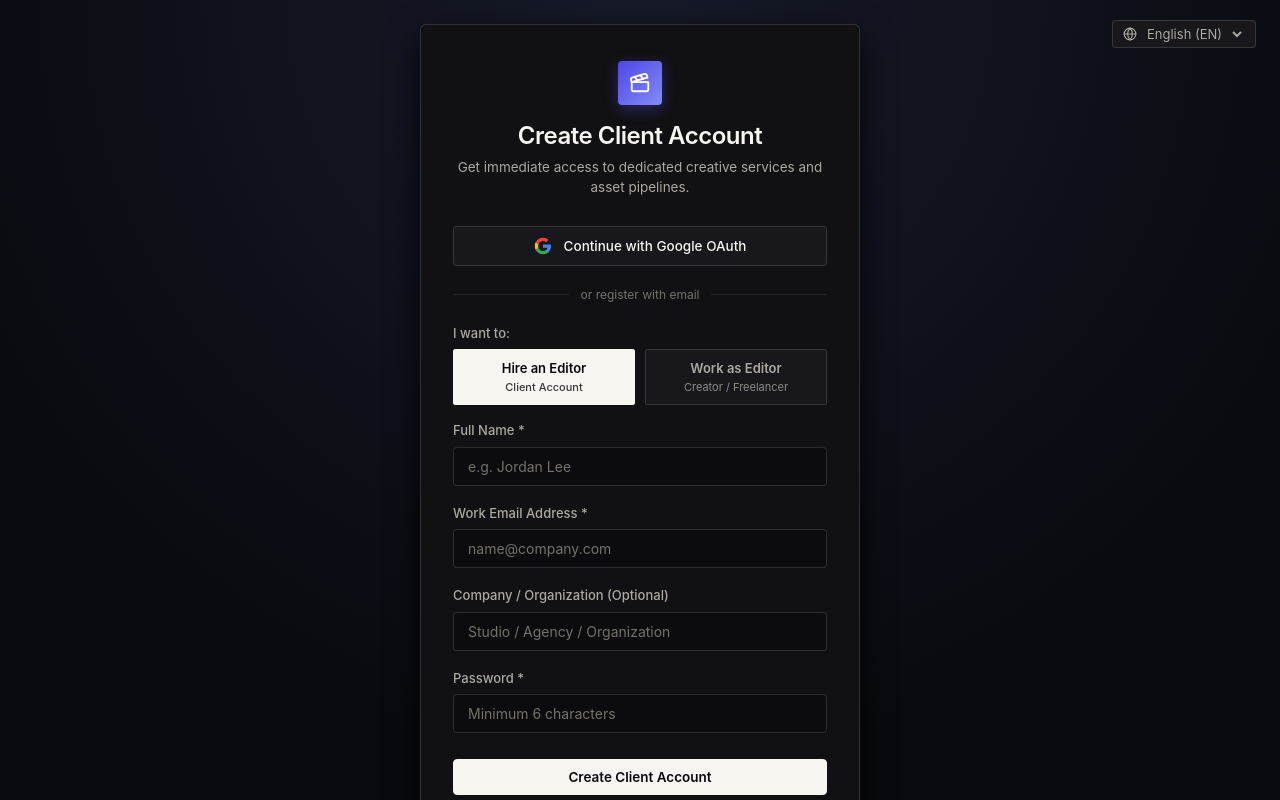
Test case: Authentication Flow & Security Validation › validates password length on signup
Step 1. Type "Alex Morgan" into the field labelled "Full Name *" → (640, 466), box [453,446,827,486]
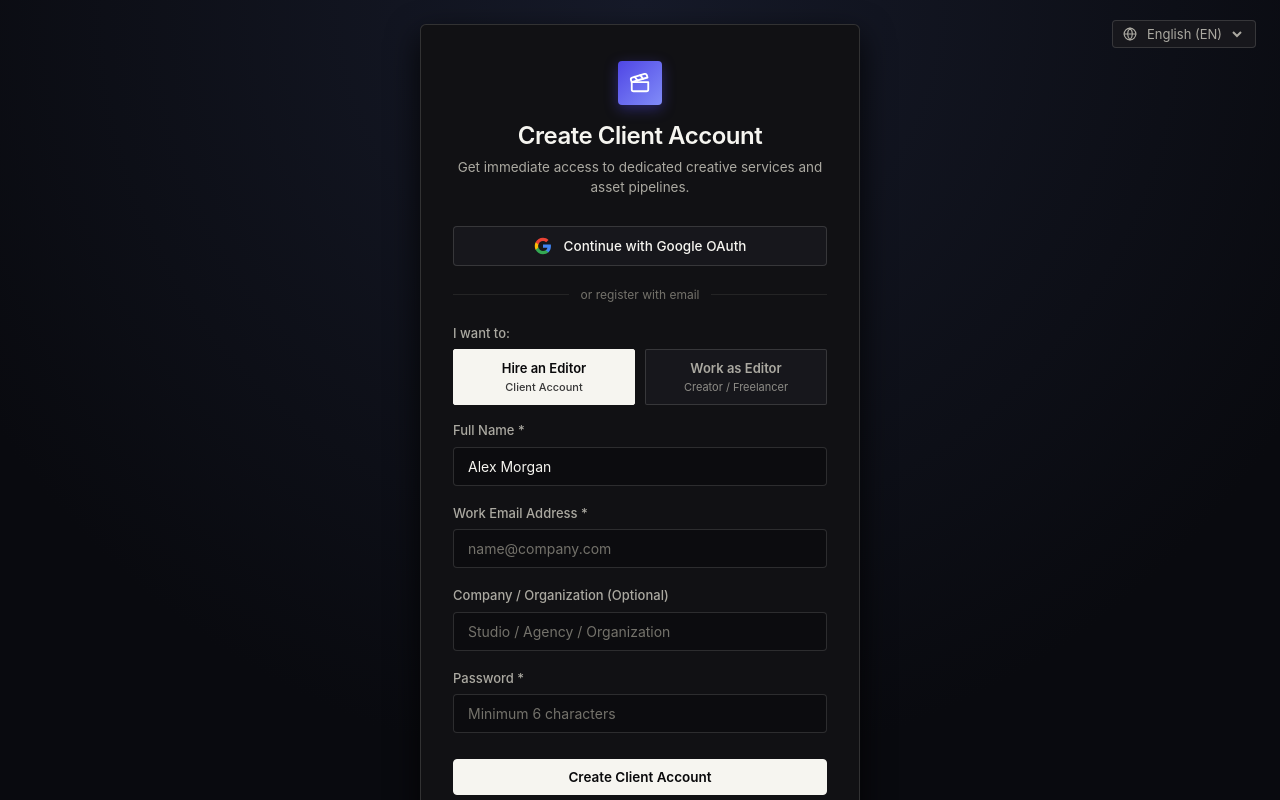
Step 2. Type "alex@example.com" into the field labelled "Work Email Address *" → (640, 548), box [453,529,827,568]
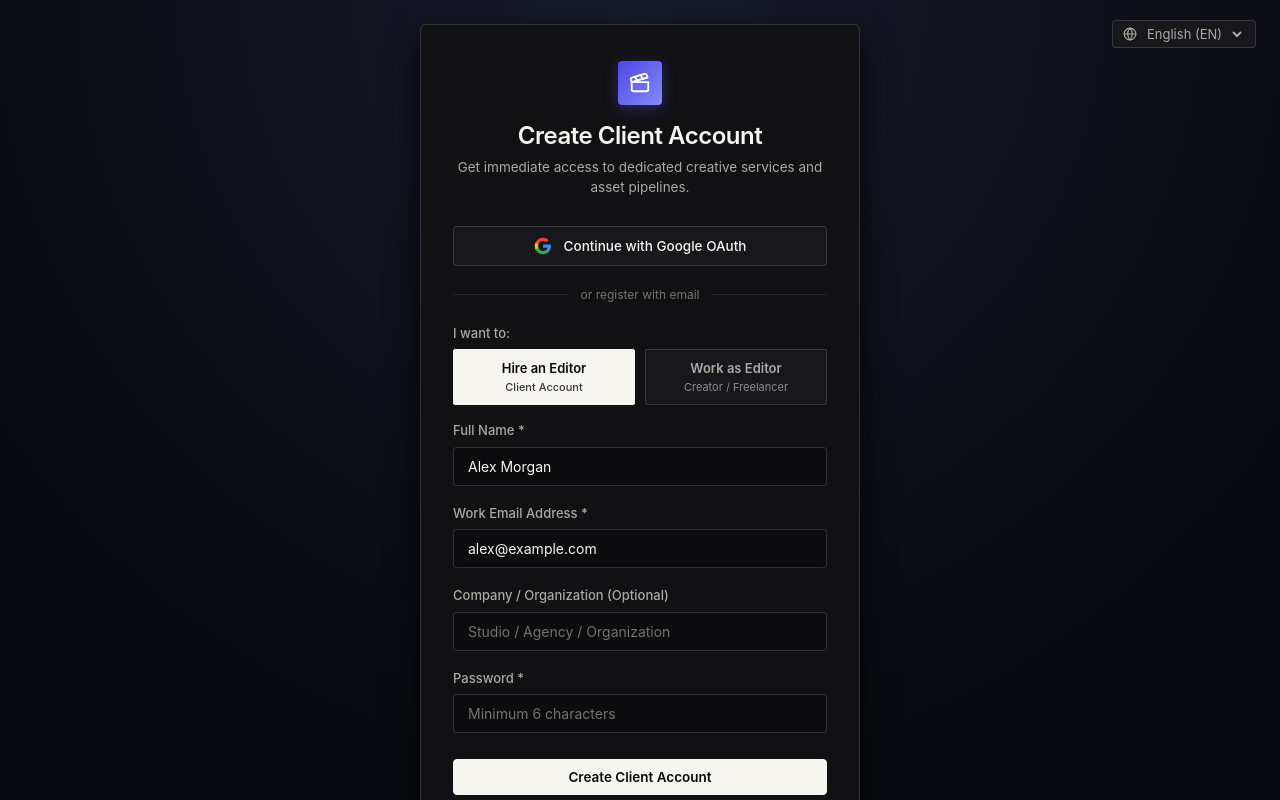
Step 3. Type "123" into the password field labelled "Password *" → (640, 714), box [453,694,827,733]
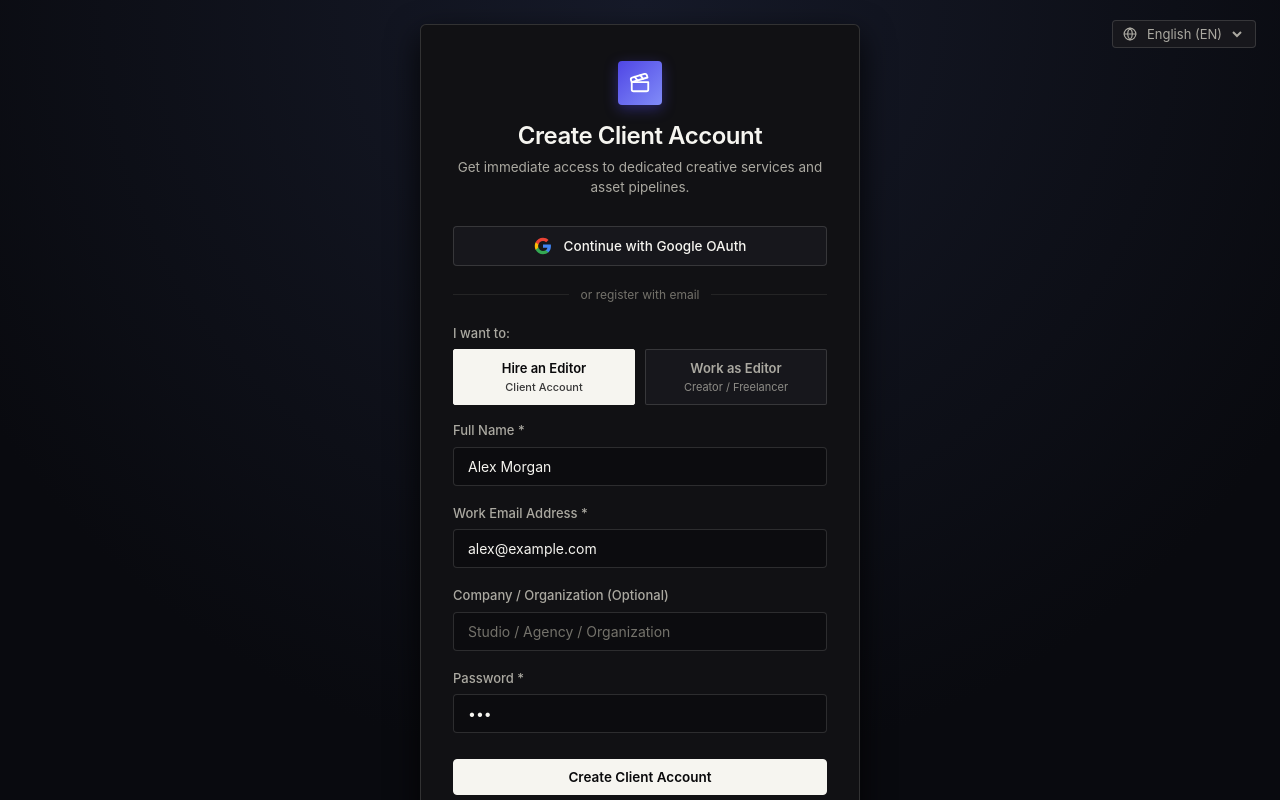
Step 4. Click the button "Create Client Account" → (640, 777), box [453,759,827,795]
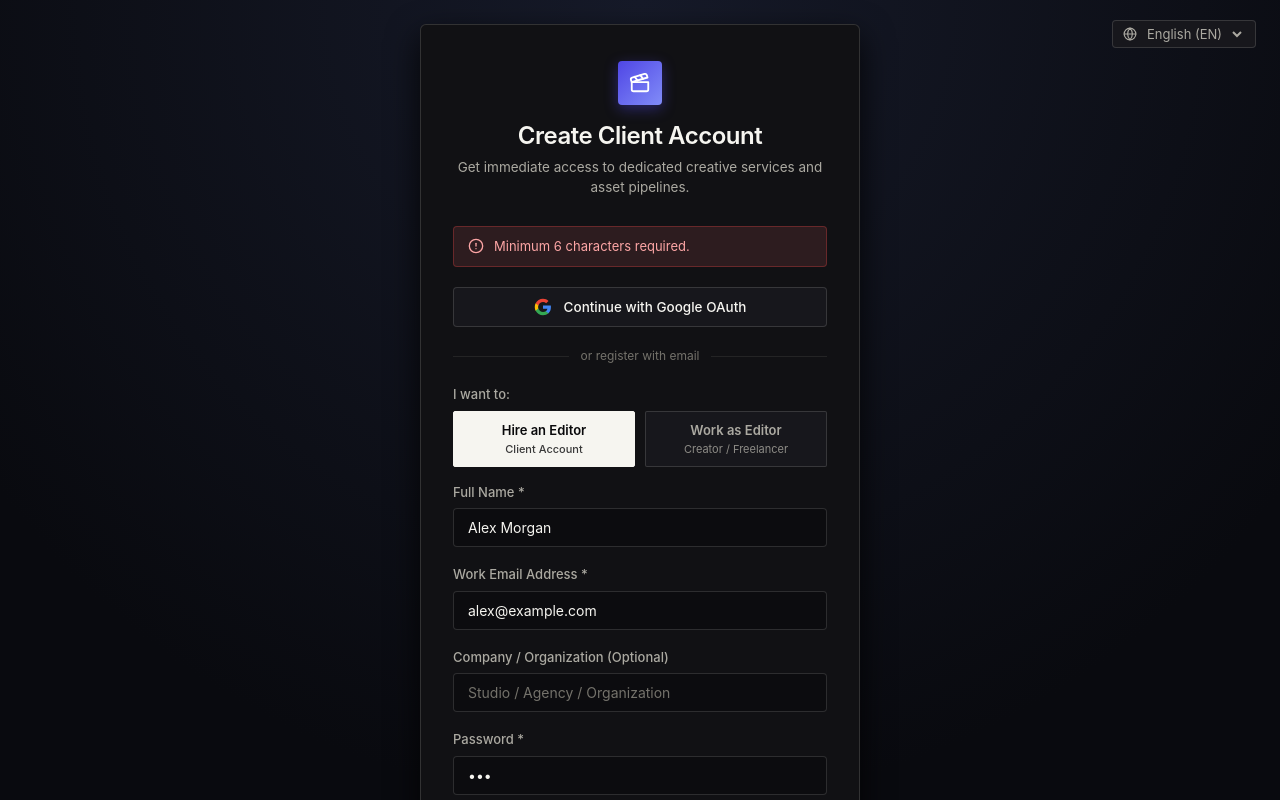
Check: the text "Minimum 6 characters required." is shown, box [494,236,690,256]
